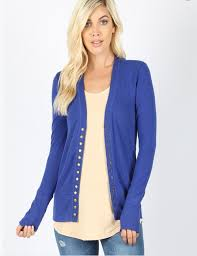C_cardigan sweater: (22, 59, 167, 235)
